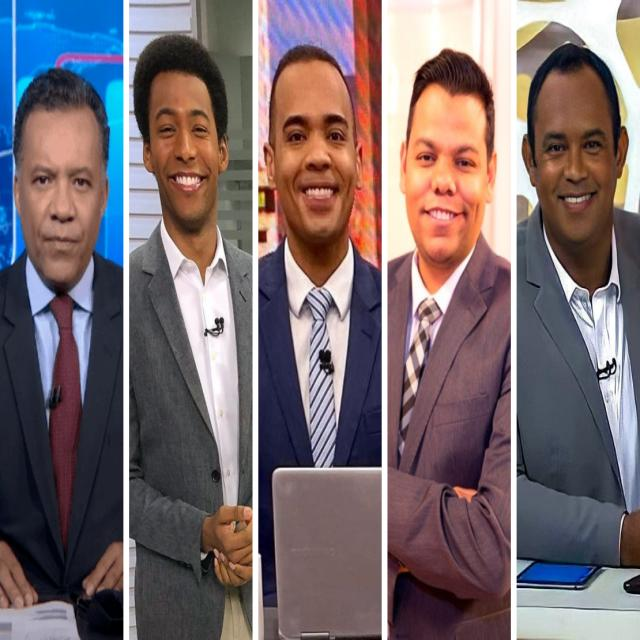sem_oculos: (11, 150, 110, 202), (402, 131, 489, 185), (522, 125, 632, 166), (266, 113, 362, 155), (138, 105, 226, 147)
